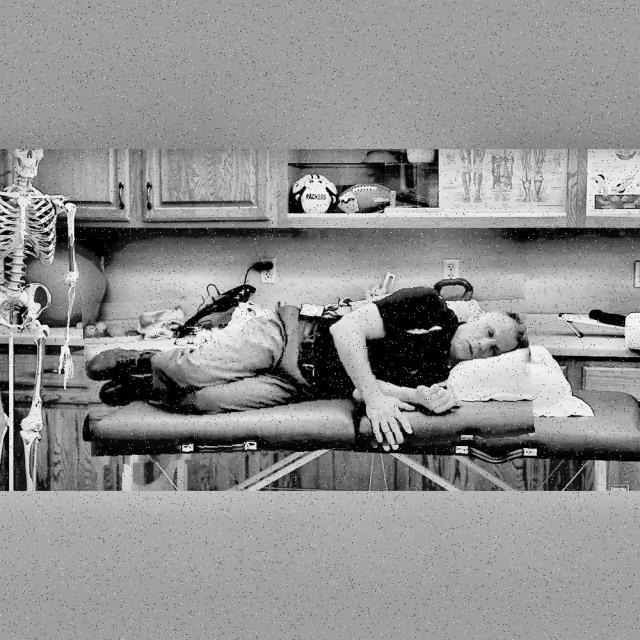Not_Supine: (86, 278, 529, 446)
